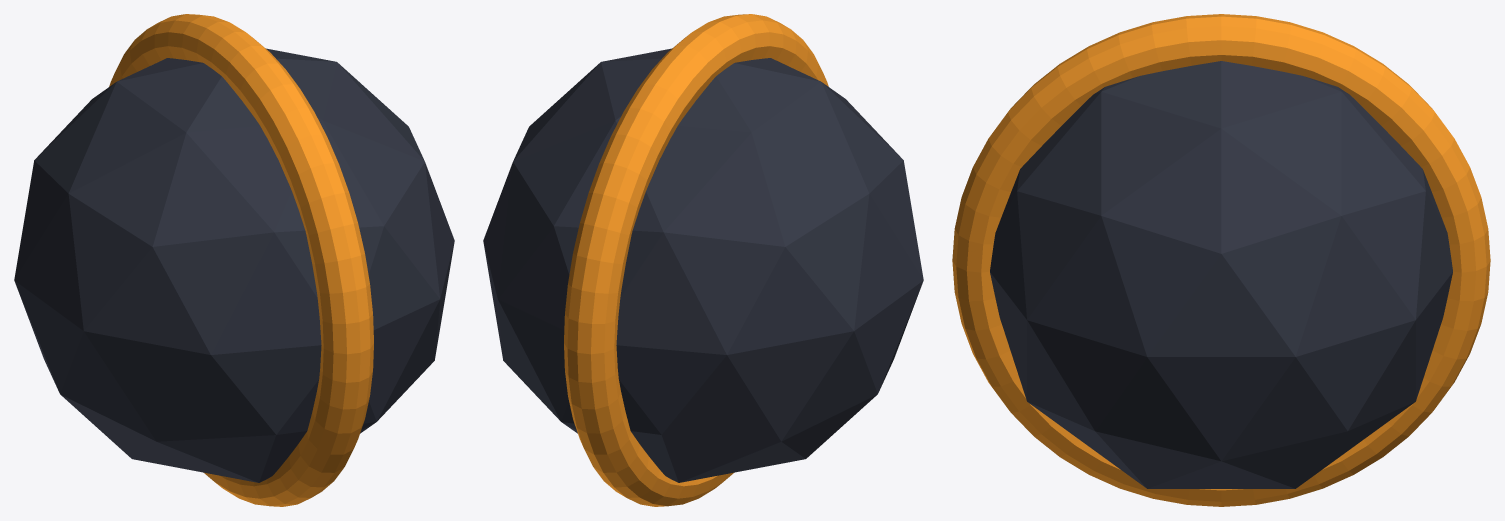
Rendered from Cannonball.obj.
3 views of the same model, side by side, from view 1: azimuth 30°, elevation 25°; view 2: azimuth 150°, elevation 25°; view 3: azimuth 270°, elevation 25° (orthographic). The views are drawn at different scales.
Visible parts, largest first — view 1: Cannonball; view 2: Cannonball; view 3: Cannonball.
Boxes of the visible parts, <box> form: Cannonball: <box>14,14,454,506</box>; Cannonball: <box>483,14,923,506</box>; Cannonball: <box>952,14,1490,506</box>.
Size of the model in its own units: 0.9511 by 1.12 by 1.12.
Materials: 1 (1 with a texture image).
